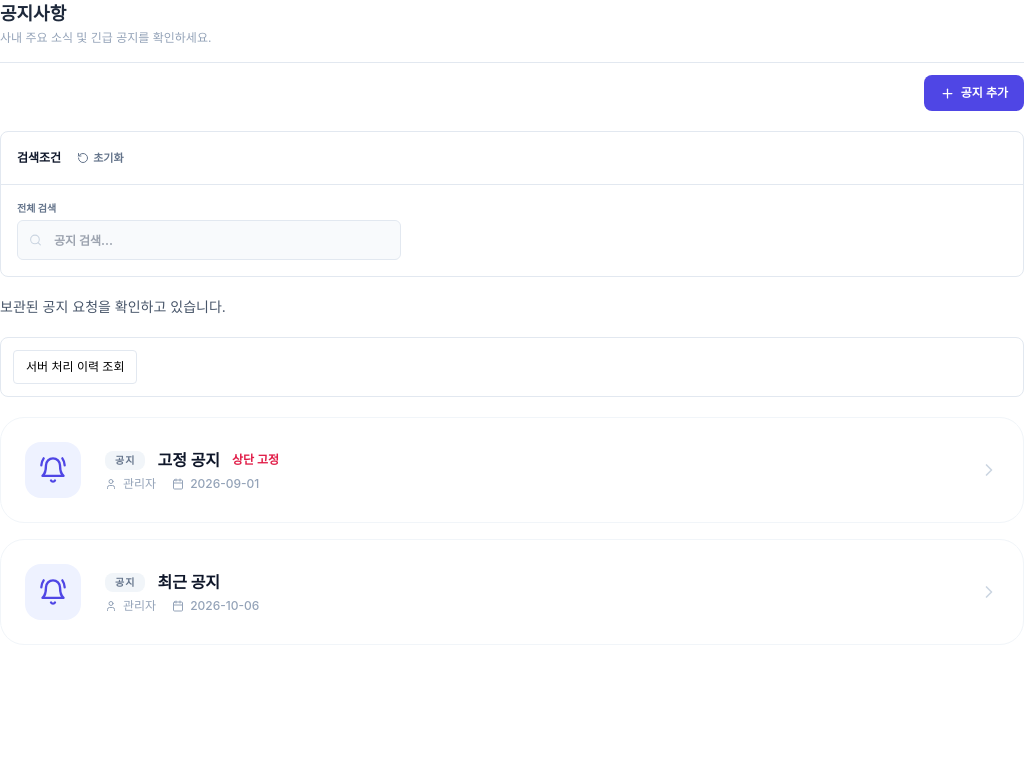
Test: 본문 삭제 미확인에서는 사진을 지우지 않고 원인과 확인 행동을 보여 준다
What coordinates should you click on to do the following:
click the heading "고정 공지"
I would click on:
 (189, 460)
Its box is [157, 448, 220, 472].
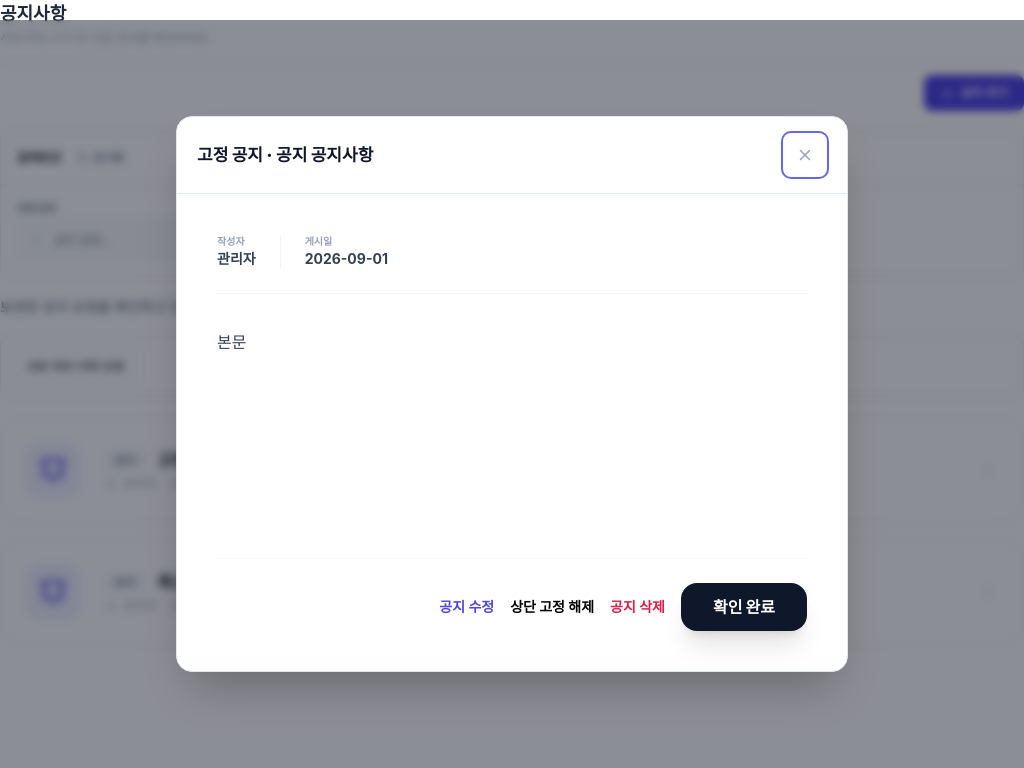
What coordinates should you click on to do the following:
click the button "공지 삭제"
I would click on:
 (638, 607)
Its box is [610, 583, 665, 631].
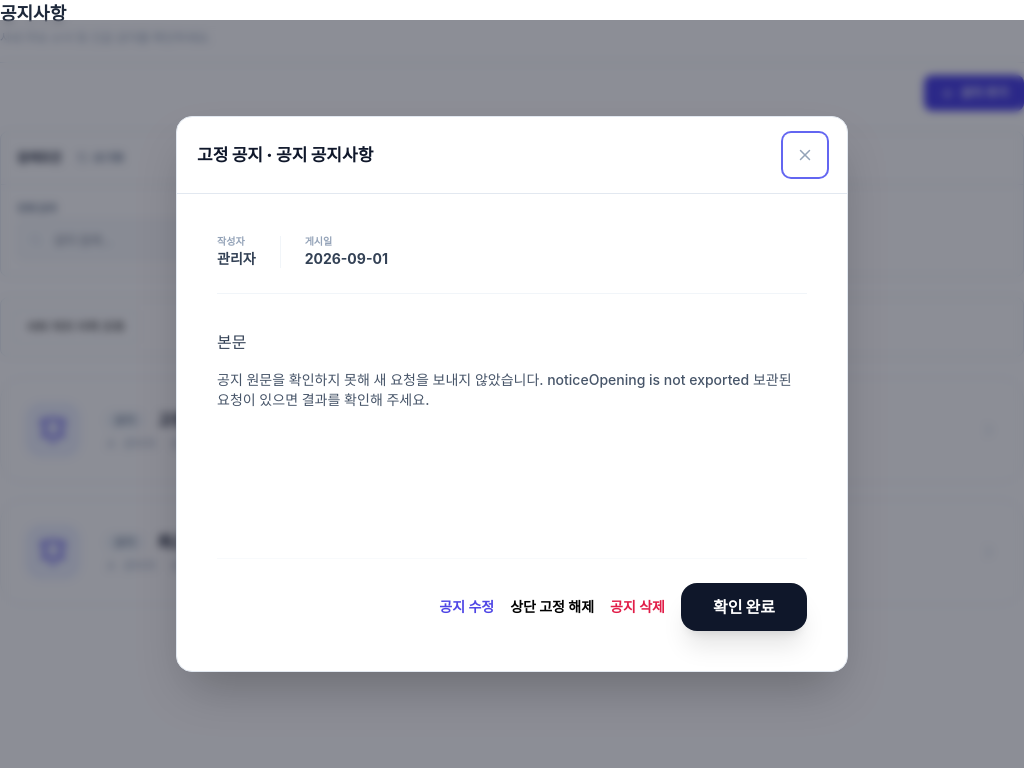
Result: the dialog is shown at [176, 116, 848, 672]
Result: the message shows "확인" at [217, 370, 807, 410]
